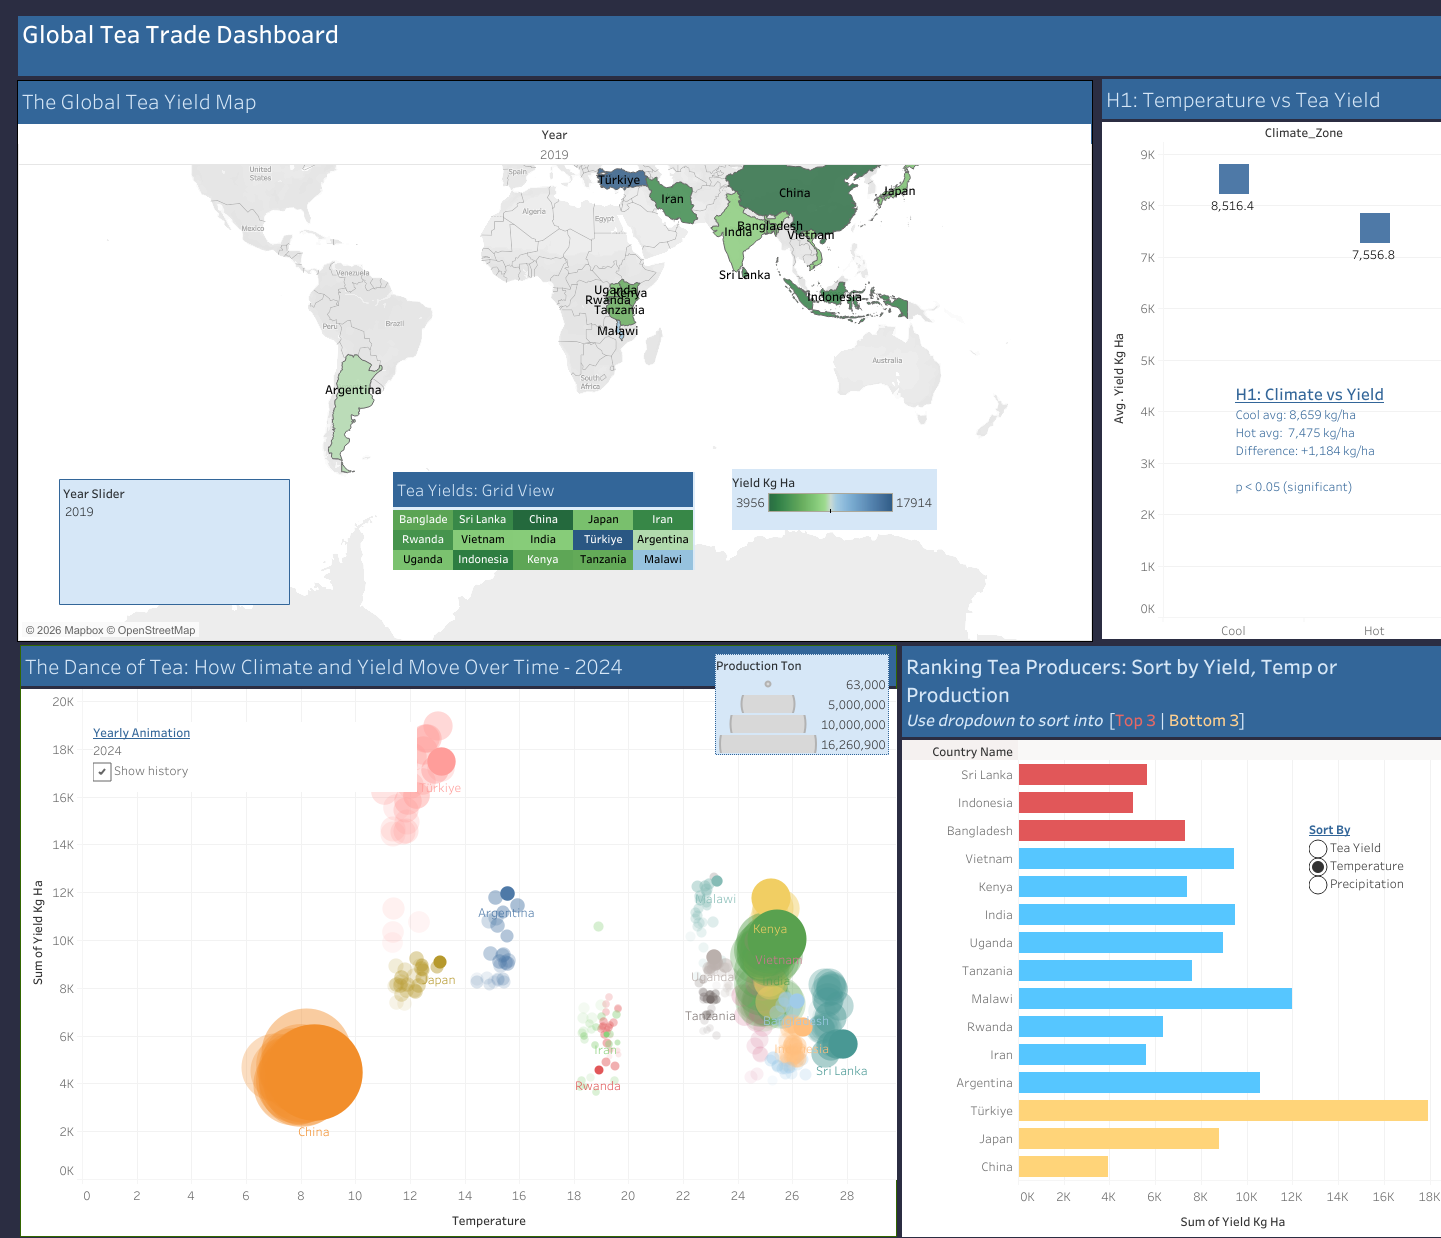

Layout of this report page (visuals, bound fields, positions):
{"tool":"tableau","page":{"name":"Global Tea Trade Dashboard","canvas":[1475,1475],"ordinal":0},"visuals":[{"type":"worksheet","title":"Text_Global Tea Trade Dashboard","mark":"Automatic","box":[40.3,77.1,1428.7,59.5]},{"type":"worksheet","title":"H1: Temperature vs Tea Yield","mark":"Square","rows":["Yield_Kg_Ha"],"cols":["Climate_Zone"],"box":[1124,140,343,560]},{"type":"worksheet","title":"The Global Tea Yield Map","mark":"Multipolygon","cols":["Year"],"box":[39,141,1076,562]},{"type":"text","box":[1255,431,162,137]},{"type":"legend","title":"The Global Tea Yield Map","param":"[federated.1mxjagq0kcqjqg1eok9ci100pu3m].[none:Yield_Kg_Ha:qk]","box":[754,530,205,140]},{"type":"worksheet","title":"Tea Yields: Grid View","mark":"Square","rows":["Grid_Row"],"cols":["Grid_Col"],"box":[415,533,302,98]},{"type":"filter","title":"Tea Yields: Grid View","param":"[federated.1mxjagq0kcqjqg1eok9ci100pu3m].[yr:Year:ok]","box":[81,540,231,126]},{"type":"worksheet","title":"The Dance of Tea: How Climate and Yield Move Over Time","mark":"Circle","rows":["Yield_Kg_Ha"],"cols":["Temperature"],"box":[42,706,877,592]},{"type":"worksheet","title":"Ranking Tea Producers: Sort by Yield, Temp or Production","mark":"Automatic","rows":["Country_Name"],"cols":["Yield_Kg_Ha"],"box":[924,707,546,603]},{"type":"legend","title":"The Dance of Tea: How Climate and Yield Move Over Time","param":"[federated.1mxjagq0kcqjqg1eok9ci100pu3m].[sum:Production_Ton:qk]","box":[737,715,174,183]},{"type":"currpage","title":"The Dance of Tea: How Climate and Yield Move Over Time","box":[115,783.1,324,69.7]},{"type":"parameter","param":"[Parameters].[Parameter 1]","box":[1331,880,124,83]}]}

Visuals, with their boxes on the page's 1475x1475 design canvas (x1, y1, x2, y2). These are canvas units, not pixel positions in the 1441x1238 screenshot, which may show the page scaled, cropped or inside an application window:
"Text_Global Tea Trade Dashboard" worksheet: 40 77 1469 137
"H1: Temperature vs Tea Yield" worksheet (Square marks): 1124 140 1467 700
"The Global Tea Yield Map" worksheet (Multipolygon marks): 39 141 1115 703
text: 1255 431 1417 568
"The Global Tea Yield Map" legend: 754 530 959 670
"Tea Yields: Grid View" worksheet (Square marks): 415 533 717 631
"Tea Yields: Grid View" filter: 81 540 312 666
"The Dance of Tea: How Climate and Yield Move Over Time" worksheet (Circle marks): 42 706 919 1298
"Ranking Tea Producers: Sort by Yield, Temp or Production" worksheet: 924 707 1470 1310
"The Dance of Tea: How Climate and Yield Move Over Time" legend: 737 715 911 898
"The Dance of Tea: How Climate and Yield Move Over Time" currpage: 115 783 439 853
parameter: 1331 880 1455 963
